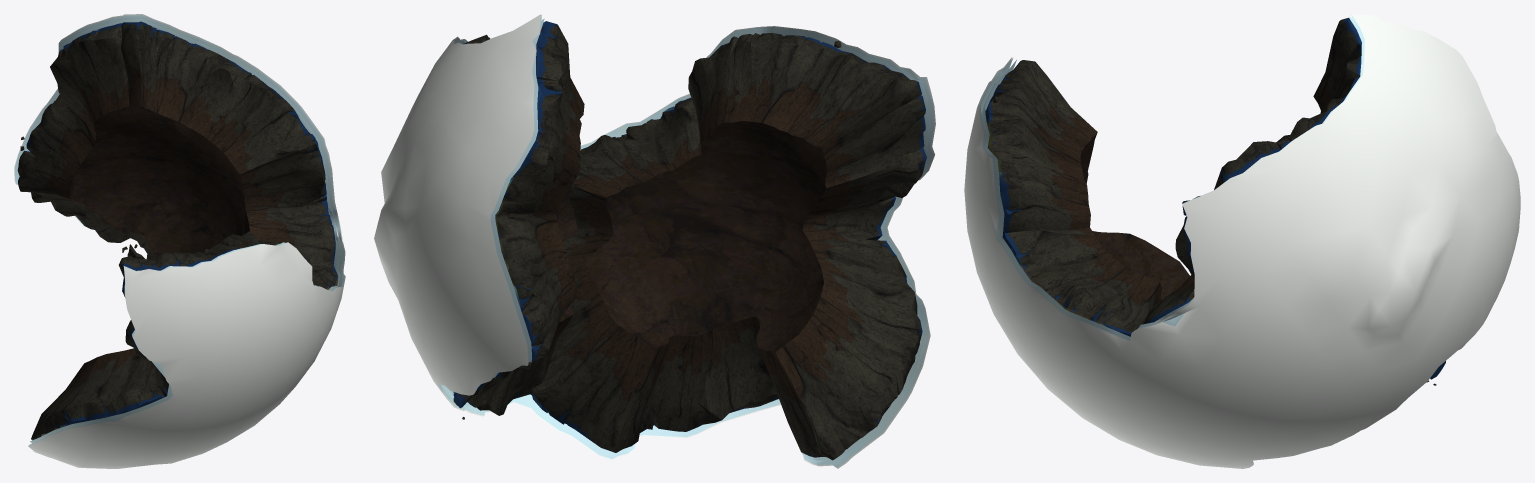
Rendered from Union 1.fbx.
The picture shows the model from 3 angles, left to right: view 1: azimuth 30°, elevation 25°; view 2: azimuth 150°, elevation 25°; view 3: azimuth 270°, elevation 25°; orthographic projection. The views are drawn at different scales.
Visible parts, largest first — view 1: Union_1; view 2: Union_1; view 3: Union_1.
Part boxes in pixels (box(x1,y1,x2,y2)): Union_1: box(14, 14, 345, 468); Union_1: box(374, 14, 935, 468); Union_1: box(964, 14, 1520, 468).
Size of the model in its own units: 8471 by 9366 by 10328.
